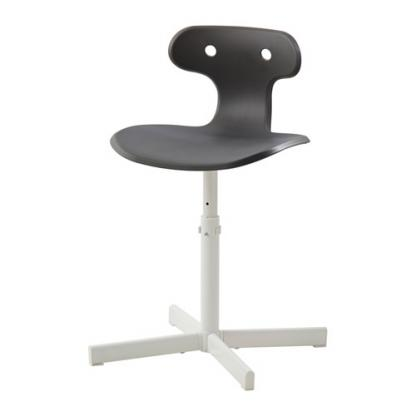Chair: (87, 22, 331, 394)
